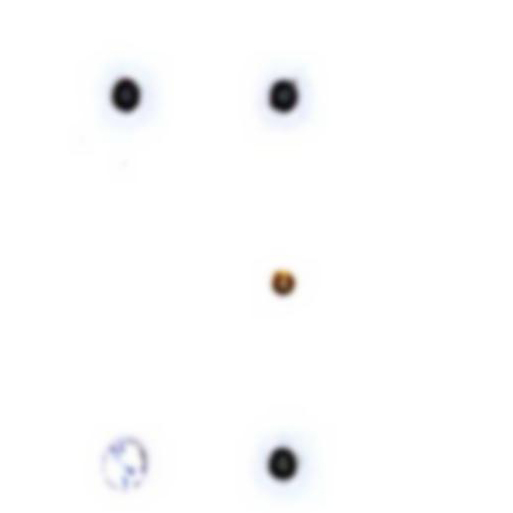abnormal: (82, 414, 169, 505)
cancer: (93, 61, 176, 138), (240, 60, 324, 136), (243, 432, 330, 505)
normal: (260, 255, 313, 305)
